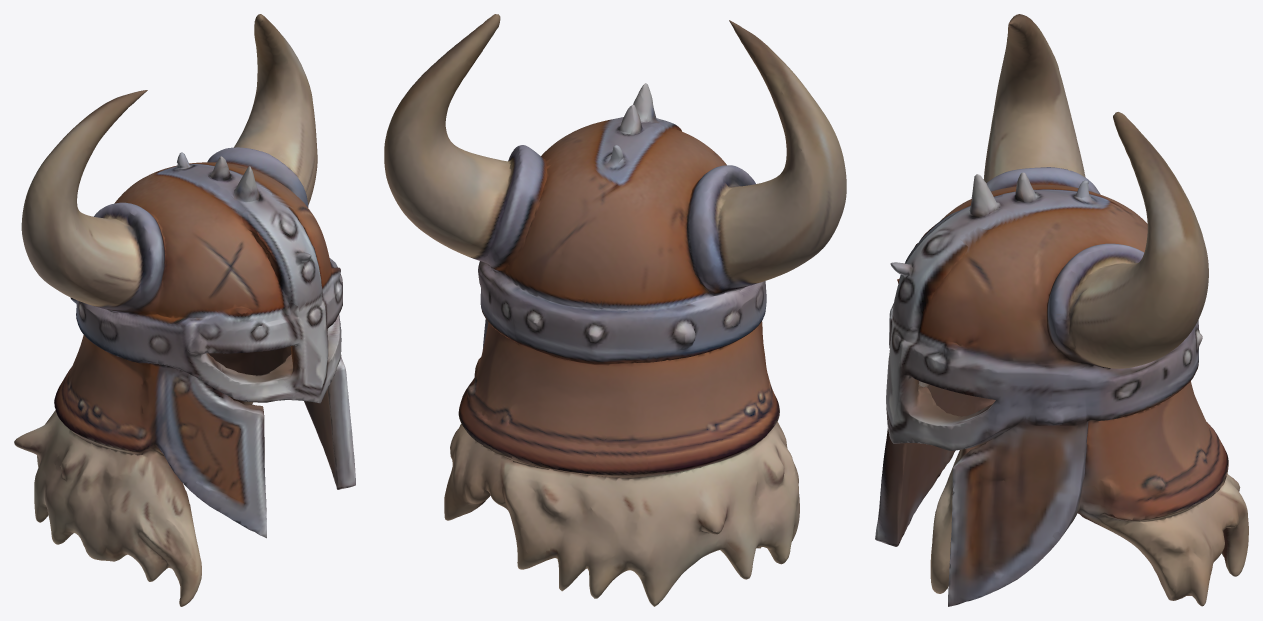
The model's file is elmo-barbaro.glb.
3 views of the same model, side by side, from view 1: azimuth 30°, elevation 25°; view 2: azimuth 150°, elevation 25°; view 3: azimuth 270°, elevation 25° (orthographic). The views are drawn at different scales.
Visible parts, largest first — view 1: tripo_node_f229ffa2-e08e-421b-a2ef-4f7bcf6025ce.001; view 2: tripo_node_f229ffa2-e08e-421b-a2ef-4f7bcf6025ce.001; view 3: tripo_node_f229ffa2-e08e-421b-a2ef-4f7bcf6025ce.001.
Part boxes in pixels (x1,y1,x2,y2): tripo_node_f229ffa2-e08e-421b-a2ef-4f7bcf6025ce.001: (14, 14, 355, 606); tripo_node_f229ffa2-e08e-421b-a2ef-4f7bcf6025ce.001: (384, 14, 846, 606); tripo_node_f229ffa2-e08e-421b-a2ef-4f7bcf6025ce.001: (875, 14, 1248, 606).
Bounding box in the file's own units: 0.1602 × 0.221 × 0.1317.
1 material, 1 textured.
